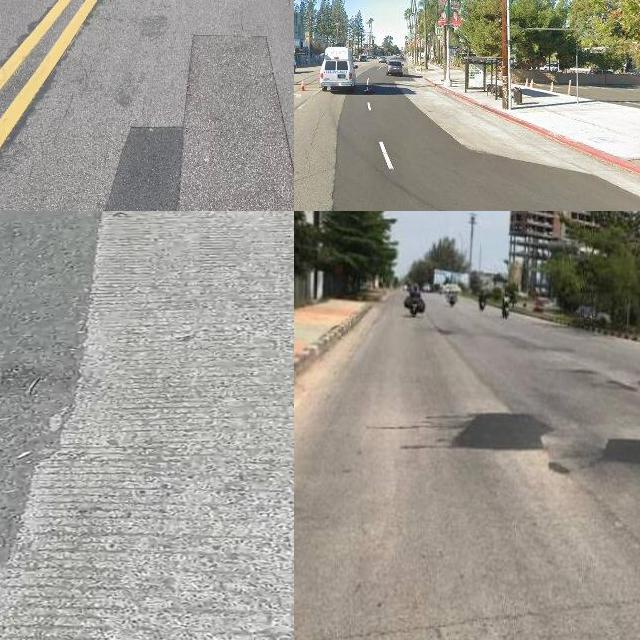Sambungan: (0, 211, 294, 640), (321, 82, 640, 211), (103, 37, 294, 211), (454, 409, 548, 448)
